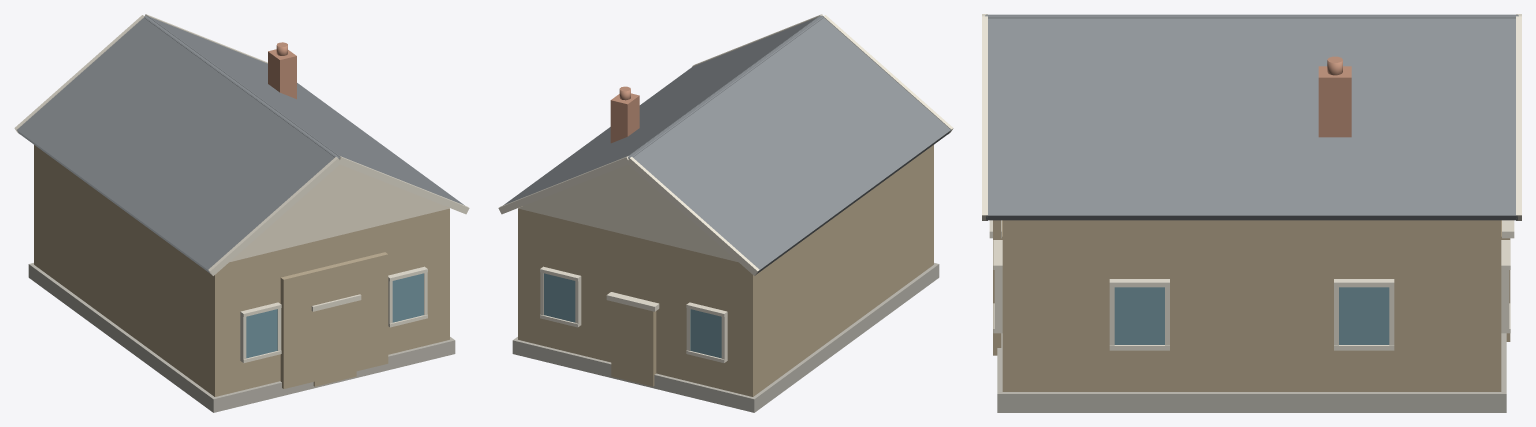
File: rhine-barn_lod1.glb
3 renders of one model, left to right at view 1: azimuth 30°, elevation 25°; view 2: azimuth 150°, elevation 25°; view 3: azimuth 270°, elevation 25°, orthographic. The views are drawn at different scales.
Parts seen in each view (by area): view 1: RF_Roof.001, RF_Body, RF_BarnDoors, RF_Gable, RF_Roof, RF_Foundation, RF_Vergeband.001, RF_Window.001, RF_Window.002, RF_Chimney, RF_Vergeband.003, RF_Ridge (+1 smaller); view 2: RF_Body, RF_Roof.001, RF_Gable.001, RF_Roof, RF_Foundation, RF_Door, RF_Vergeband.002, RF_Window.003, RF_Window.004, RF_Chimney, RF_Vergeband, RF_Ridge (+2 smaller); view 3: RF_Roof, RF_Body, RF_Foundation, RF_Window.005, RF_Window, RF_Chimney, RF_Ridge, RF_Vergeband, RF_Vergeband.003, RF_Roof.001, RF_WindowFrame.008, RF_WindowFrame.004 (+2 smaller).
Part boxes in pixels (bbox=[...]): RF_Roof.001: bbox=[17, 17, 335, 274]; RF_Body: bbox=[34, 145, 449, 396]; RF_BarnDoors: bbox=[280, 252, 388, 388]; RF_Gable: bbox=[229, 164, 449, 262]; RF_Roof: bbox=[147, 16, 464, 205]; RF_Foundation: bbox=[28, 263, 455, 412]; RF_Vergeband.001: bbox=[208, 157, 341, 275]; RF_Window.001: bbox=[246, 309, 277, 358]; RF_Window.002: bbox=[392, 273, 423, 322]; RF_Chimney: bbox=[268, 49, 296, 99]; RF_Vergeband.003: bbox=[339, 156, 469, 214]; RF_Ridge: bbox=[144, 15, 339, 158]; RF_Body: bbox=[518, 145, 933, 396]; RF_Roof.001: bbox=[632, 17, 950, 274]; RF_Gable.001: bbox=[518, 164, 738, 262]; RF_Roof: bbox=[503, 16, 820, 205]; RF_Foundation: bbox=[512, 263, 939, 412]; RF_Door: bbox=[611, 301, 656, 386]; RF_Vergeband.002: bbox=[626, 157, 759, 275]; RF_Window.003: bbox=[690, 309, 721, 358]; RF_Window.004: bbox=[544, 273, 575, 322]; RF_Chimney: bbox=[610, 93, 639, 143]; RF_Vergeband: bbox=[498, 156, 628, 214]; RF_Ridge: bbox=[628, 15, 823, 158]; RF_Roof: bbox=[986, 16, 1517, 220]; RF_Body: bbox=[1002, 220, 1501, 391]; RF_Foundation: bbox=[997, 333, 1506, 412]; RF_Window.005: bbox=[1114, 287, 1164, 344]; RF_Window: bbox=[1339, 287, 1389, 344]; RF_Chimney: bbox=[1318, 66, 1351, 137]; RF_Ridge: bbox=[985, 15, 1518, 18]; RF_Vergeband: bbox=[1516, 16, 1521, 220]; RF_Vergeband.003: bbox=[982, 16, 987, 220]; RF_Roof.001: bbox=[986, 14, 1517, 15]; RF_WindowFrame.008: bbox=[1501, 263, 1509, 333]; RF_WindowFrame.004: bbox=[994, 263, 1002, 333].
Size of the model in its own units: 9.93 by 8.47 by 12.98.
